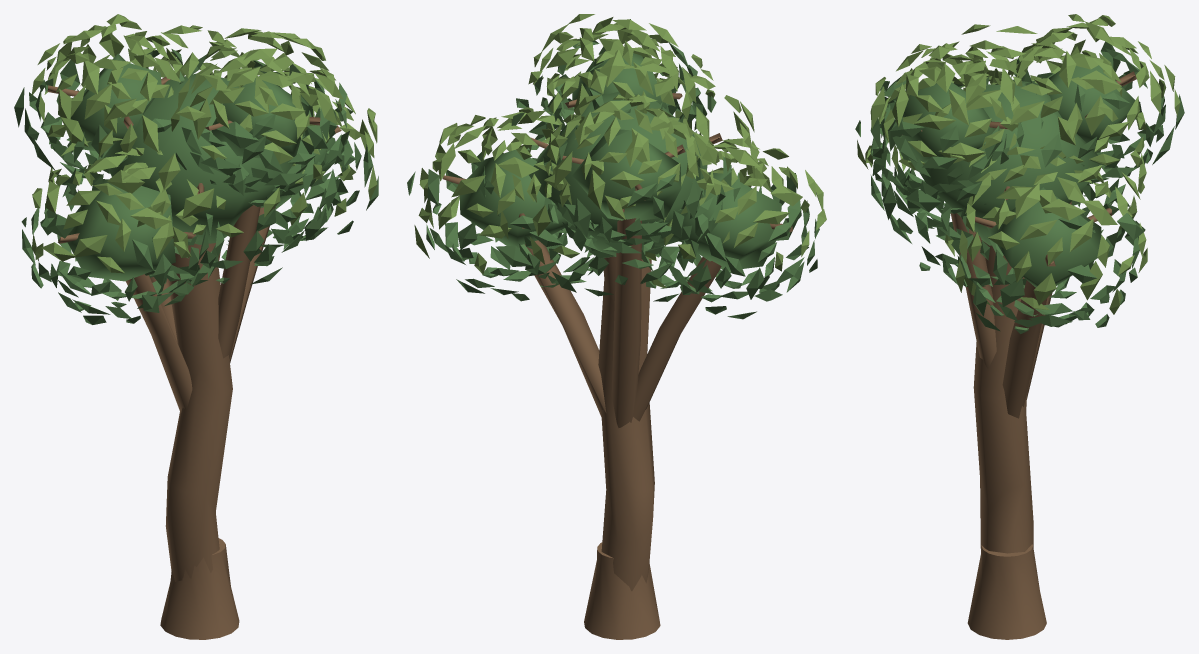
Rendered from tree.round-far.glb.
The picture shows the model from 3 angles, left to right: view 1: azimuth 30°, elevation 25°; view 2: azimuth 150°, elevation 25°; view 3: azimuth 270°, elevation 25°; orthographic projection. The views are drawn at different scales.
Visible parts, largest first — view 1: Root collar; view 2: Root collar; view 3: Root collar.
Boxes of the visible parts, x1,y1,x2,y2 form: Root collar: [14, 14, 378, 639]; Root collar: [407, 14, 826, 639]; Root collar: [855, 14, 1184, 639].
Size of the model in its own units: 1.39 by 2.13 by 1.08.
